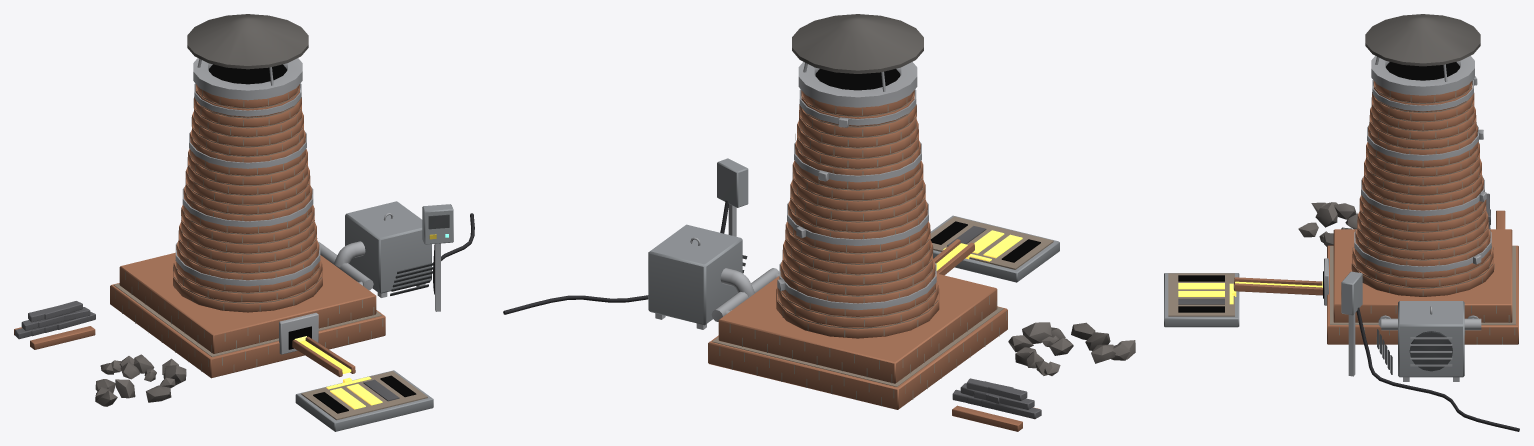
Rendered from bs_smelter.glb.
3 renders of one model, left to right at view 1: azimuth 30°, elevation 25°; view 2: azimuth 150°, elevation 25°; view 3: azimuth 270°, elevation 25°, orthographic. The views are drawn at different scales.
Parts seen in each view (by area): view 1: bs_smelter_mesh, stock_mesh; view 2: bs_smelter_mesh, stock_mesh; view 3: bs_smelter_mesh.
Boxes of the visible parts, box(x1,y1,x2,y2) form: bs_smelter_mesh: box(95, 14, 474, 431); stock_mesh: box(14, 301, 95, 349); bs_smelter_mesh: box(503, 14, 1135, 409); stock_mesh: box(952, 378, 1041, 431); bs_smelter_mesh: box(1164, 14, 1519, 431).
Size of the model in its own units: 6.26 by 3.81 by 4.26.
